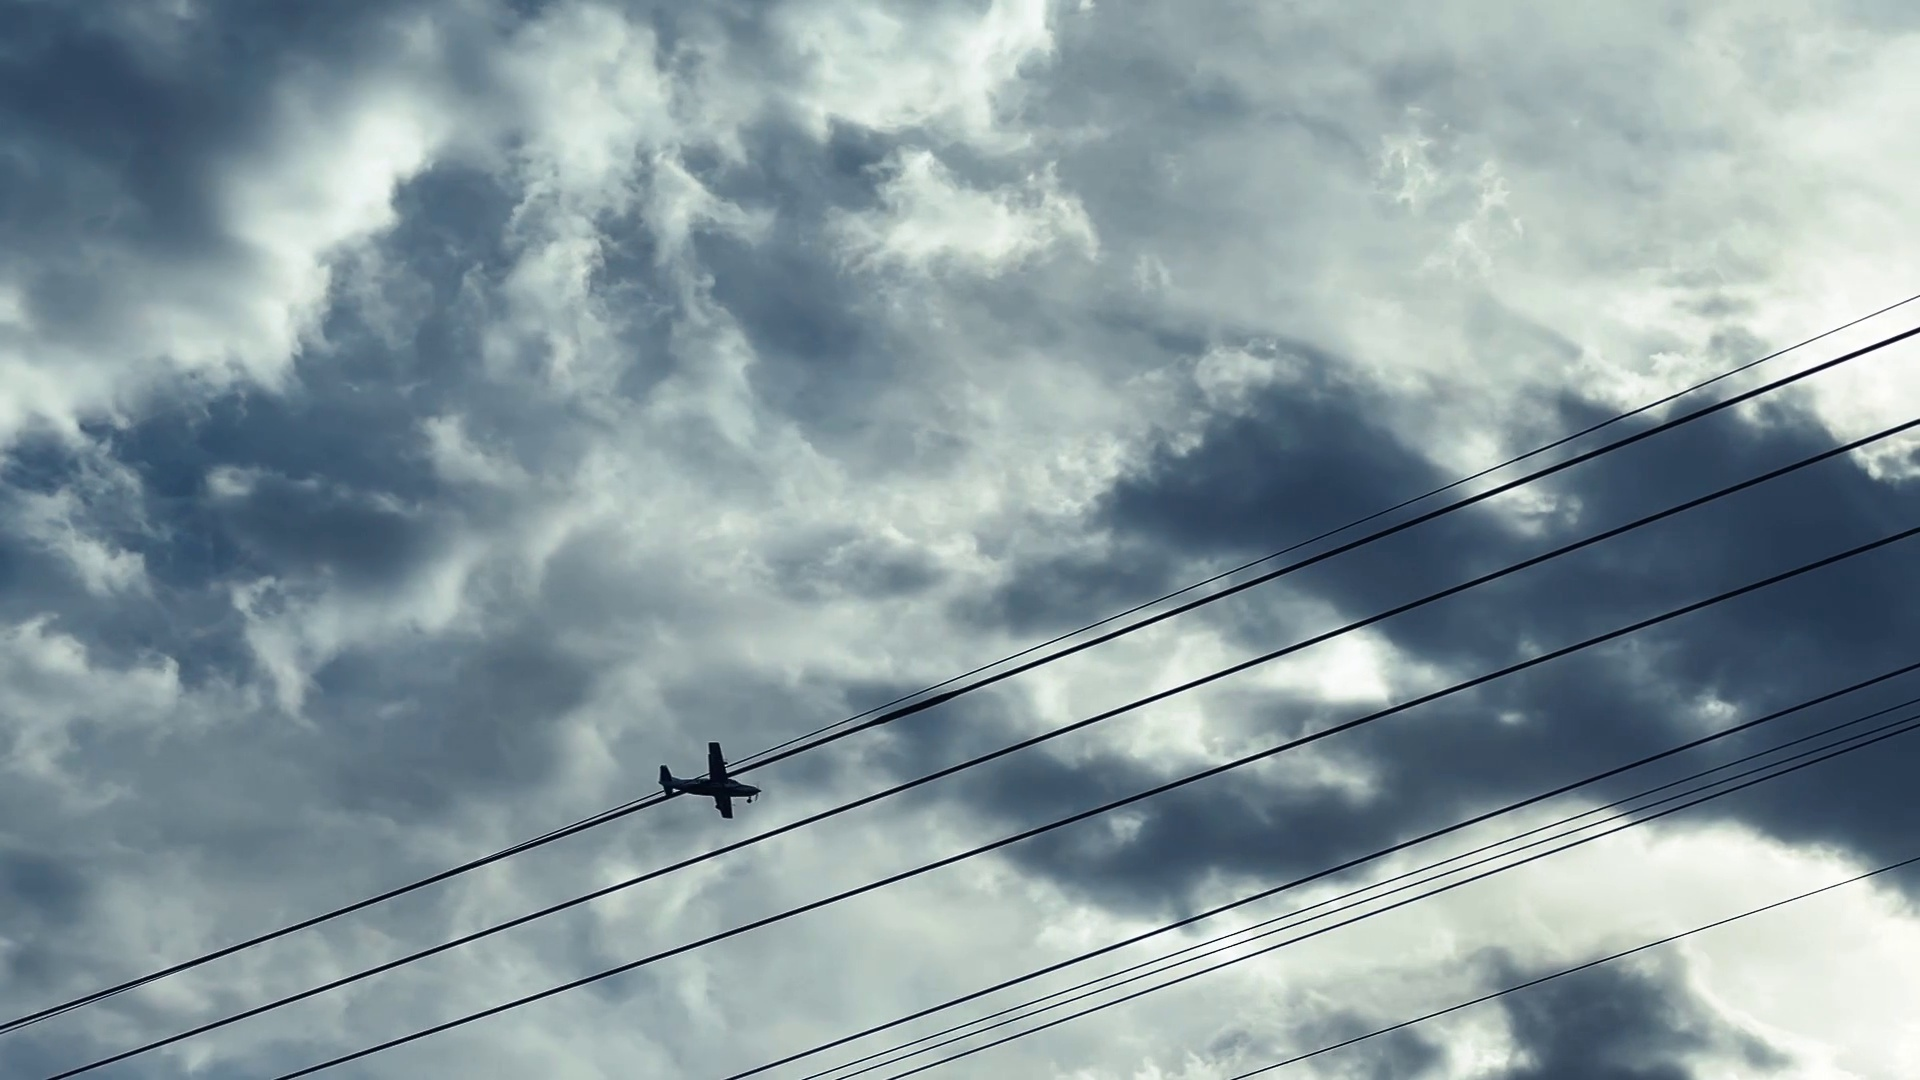plane: (659, 742, 760, 818)
